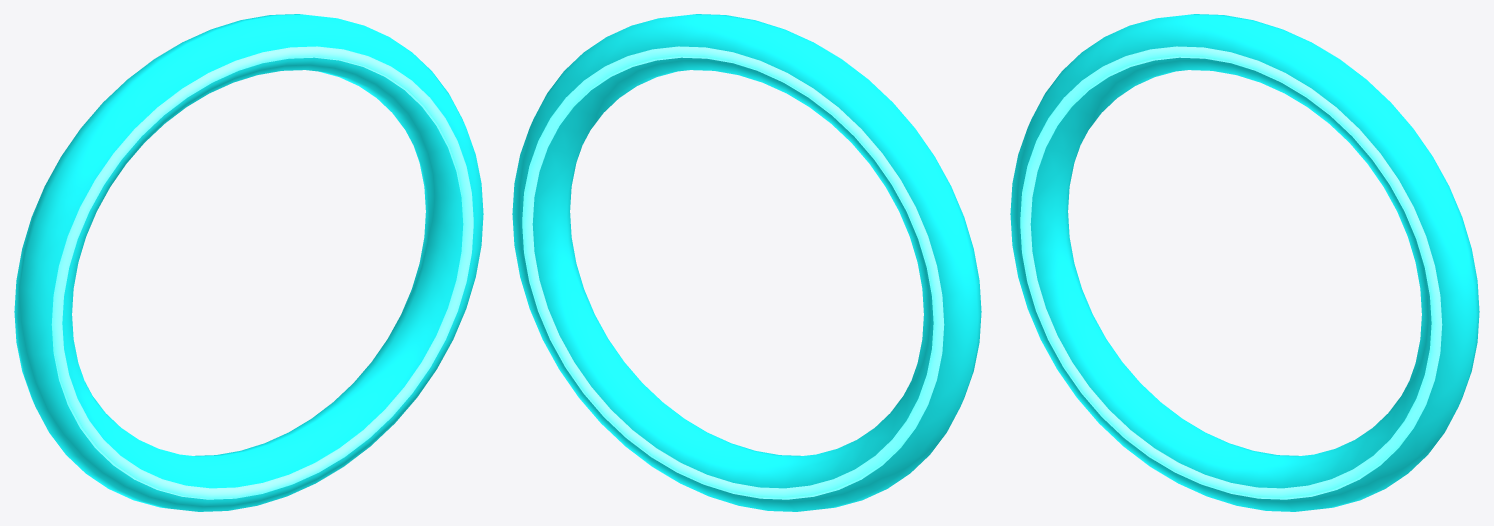
File: wsc-kit-004-grapple-hoop.glb
3 renders of one model, left to right at view 1: azimuth 30°, elevation 25°; view 2: azimuth 150°, elevation 25°; view 3: azimuth 330°, elevation 25°, orthographic.
Parts seen in each view (by area): view 1: Grapple hoop | Continuous compact cyan hoop, Grapple hoop | Recessed mint channel; view 2: Grapple hoop | Continuous compact cyan hoop, Grapple hoop | Recessed mint channel; view 3: Grapple hoop | Continuous compact cyan hoop, Grapple hoop | Recessed mint channel.
Boxes of the visible parts, left/top/right/bottom form: Grapple hoop | Continuous compact cyan hoop: left=14, top=14, right=483, bottom=511; Grapple hoop | Recessed mint channel: left=51, top=46, right=473, bottom=499; Grapple hoop | Continuous compact cyan hoop: left=512, top=14, right=981, bottom=511; Grapple hoop | Recessed mint channel: left=522, top=46, right=944, bottom=499; Grapple hoop | Continuous compact cyan hoop: left=1010, top=14, right=1479, bottom=511; Grapple hoop | Recessed mint channel: left=1020, top=46, right=1442, bottom=499.
Bounding box in the file's own units: 0.736 × 0.736 × 0.0896.
